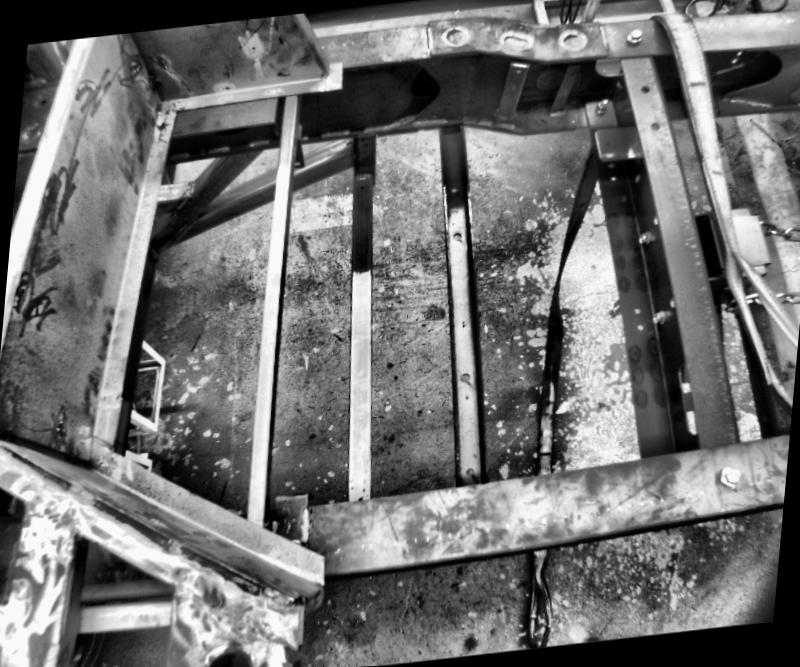bolt: (716, 466, 744, 490), (621, 29, 644, 51), (592, 100, 608, 120), (651, 310, 668, 328), (636, 232, 652, 247)
bracket: (266, 482, 324, 540), (538, 64, 582, 126), (491, 61, 531, 129), (588, 126, 646, 167), (288, 124, 314, 175)
hole: (199, 645, 261, 666), (456, 372, 472, 386), (461, 465, 474, 479), (638, 84, 650, 94), (648, 122, 660, 132), (630, 307, 643, 316), (448, 184, 458, 195), (450, 232, 461, 241), (634, 323, 644, 332), (603, 142, 611, 150), (358, 184, 366, 190), (294, 164, 302, 170), (344, 141, 349, 146)
